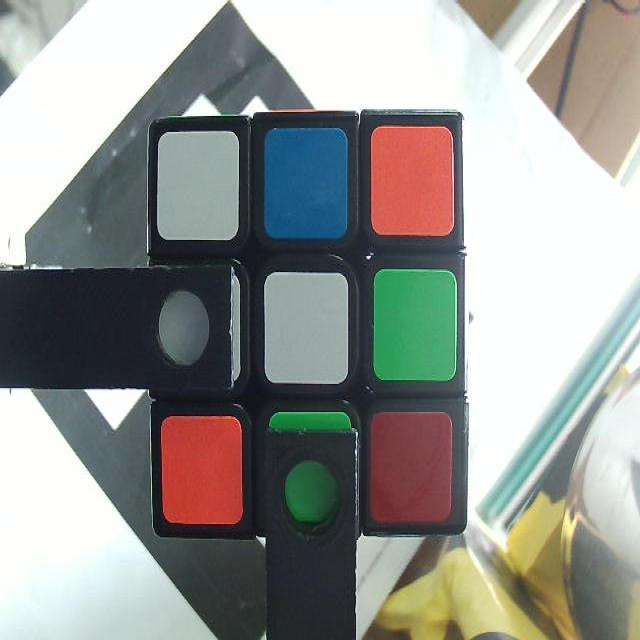b: (267, 130, 347, 238)
g: (267, 414, 351, 524), (375, 273, 455, 382)
o: (160, 414, 246, 522), (369, 128, 455, 234)
r: (371, 414, 454, 525)
w: (151, 273, 241, 383), (266, 274, 350, 382), (157, 138, 240, 239)
